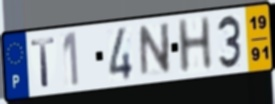1: (60, 30, 80, 90)
3: (216, 13, 242, 71)
4: (107, 25, 135, 83)
H: (175, 15, 215, 77)
N: (137, 20, 172, 80)
T: (29, 35, 57, 89)
